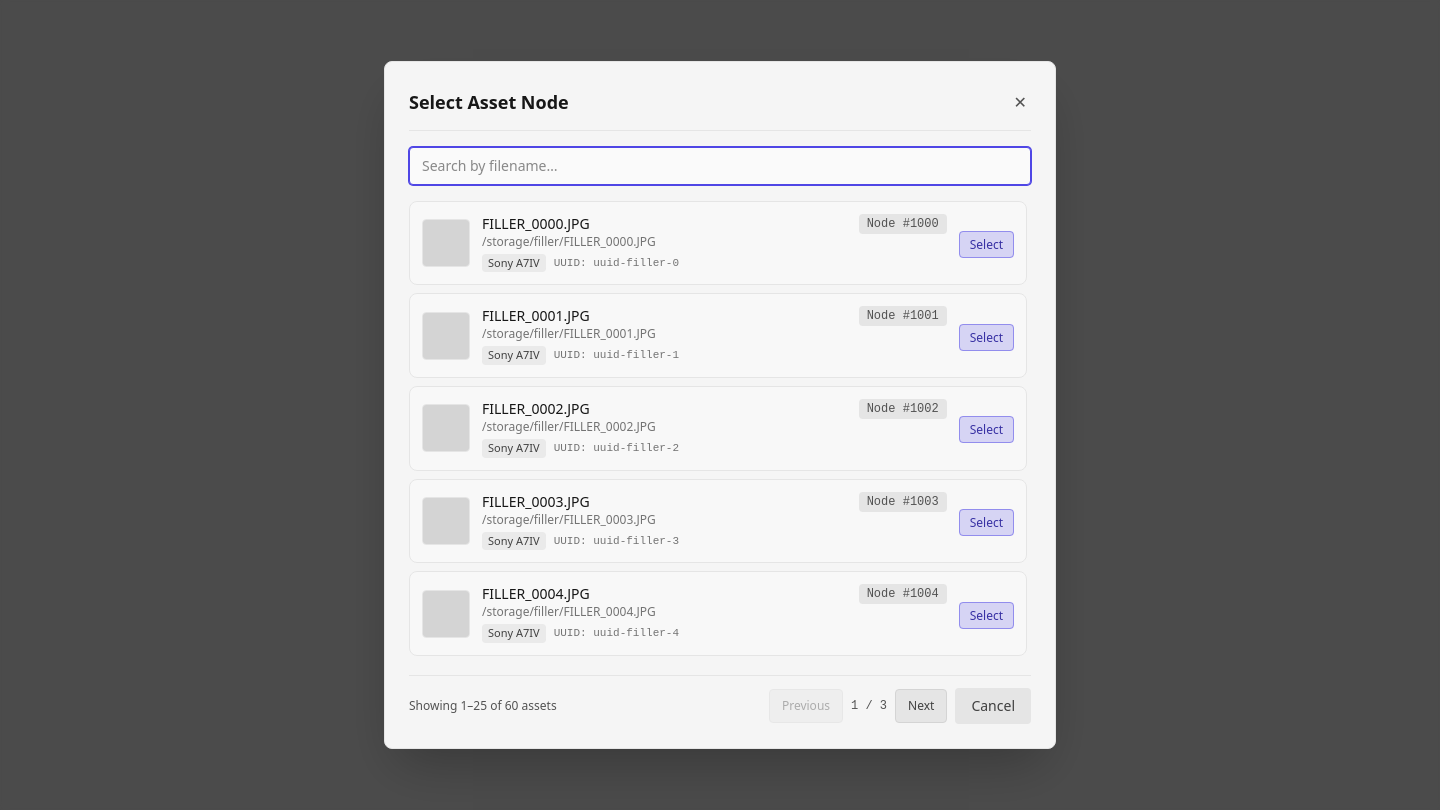
NodePickerModal › pages through results with Previous/Next
Expected: the text "FILLER_0000.JPG" is shown, [482,214,590,234]
Expected: the text "Showing 1–25 of 60 assets" is shown, [409,697,557,714]
What coordinates should you click on to do the following:
click the button with aria-label "Next page"
I would click on:
 (921, 706)
Its box is [895,689,947,723].
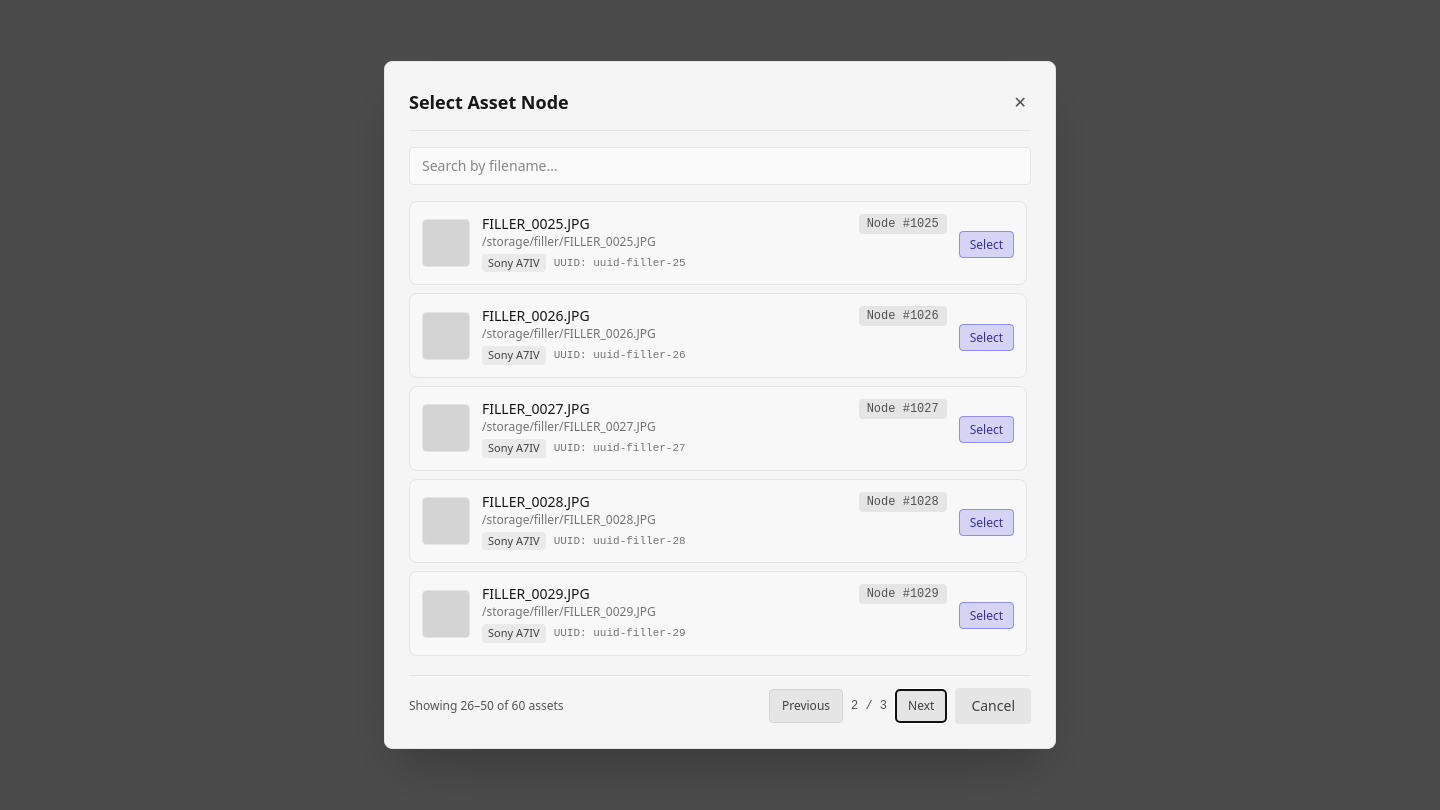
Now the text "FILLER_0025.JPG" is shown, box [482,214,590,234]
What coordinates should you click on to do the following:
click the button with aria-label "Next page"
I would click on:
 (921, 706)
Its box is [895,689,947,723].
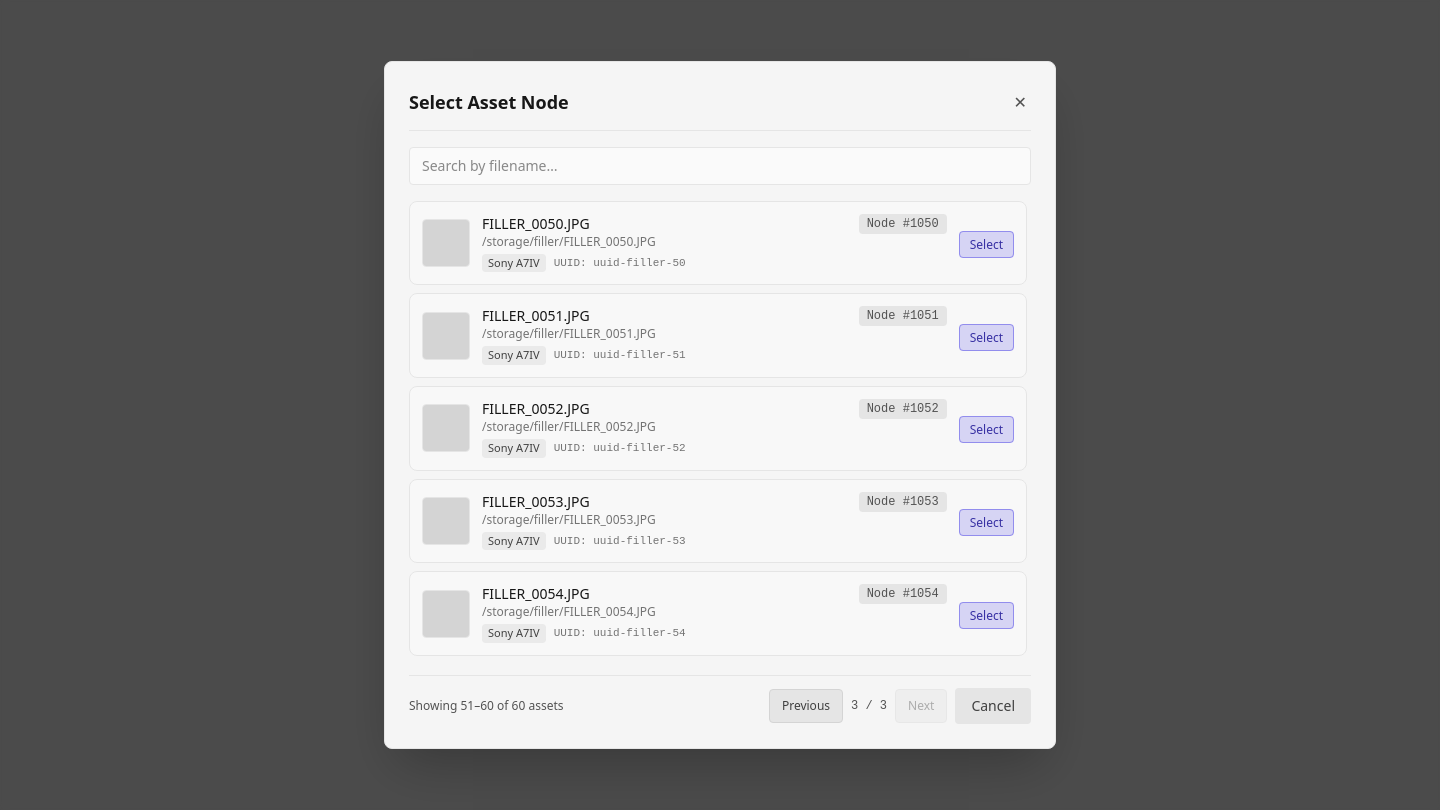
Now the text "FILLER_0050.JPG" is shown, box [482,214,590,234]
Now the text "Showing 51–60 of 60 assets" is shown, box [409,697,564,714]
Now the button with aria-label "Next page" is disabled, box [895,689,947,723]
What coordinates should you click on to do the following:
click the button with aria-label "Previous page"
I would click on:
 (806, 706)
Its box is [769,689,843,723].
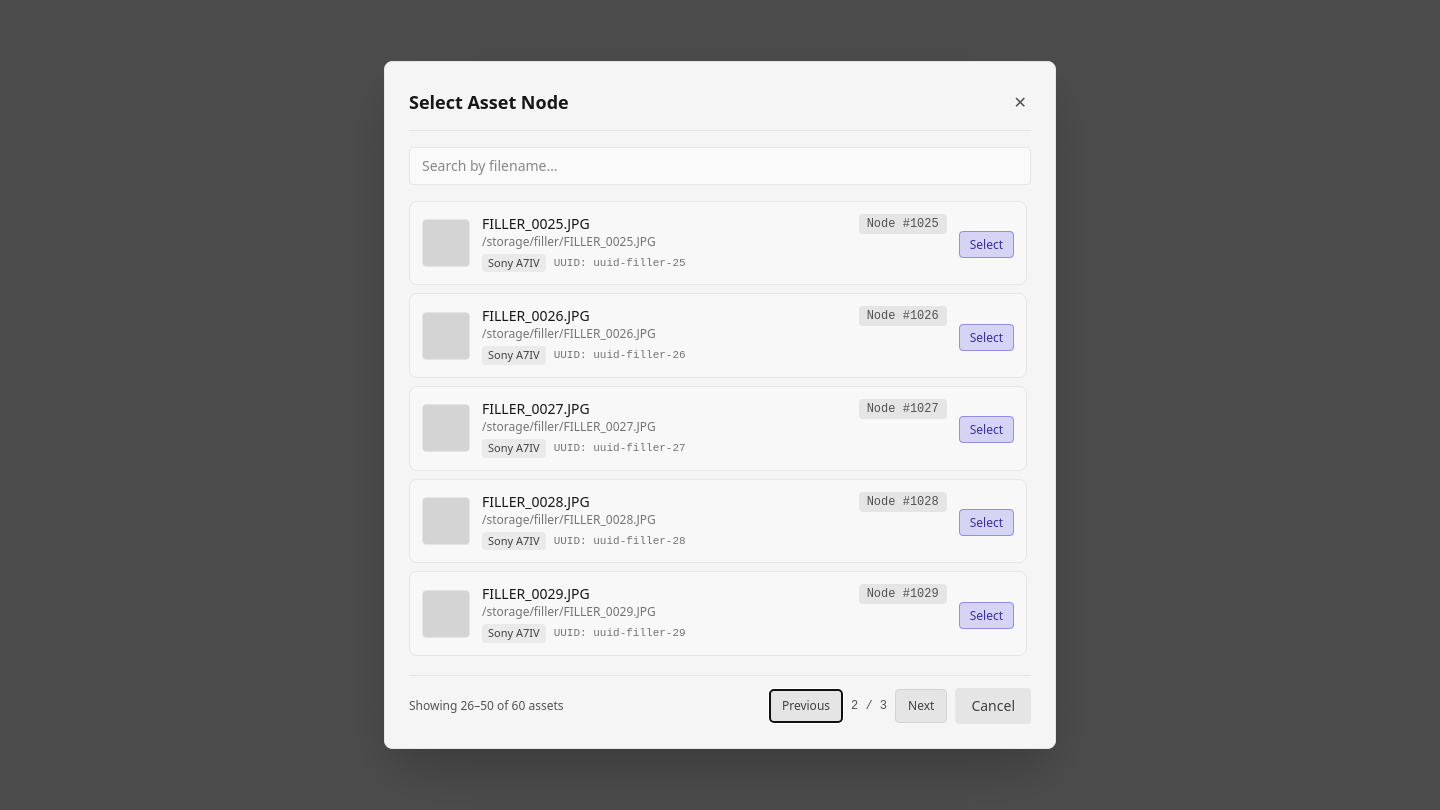
Now the text "FILLER_0025.JPG" is shown, box [482,214,590,234]
